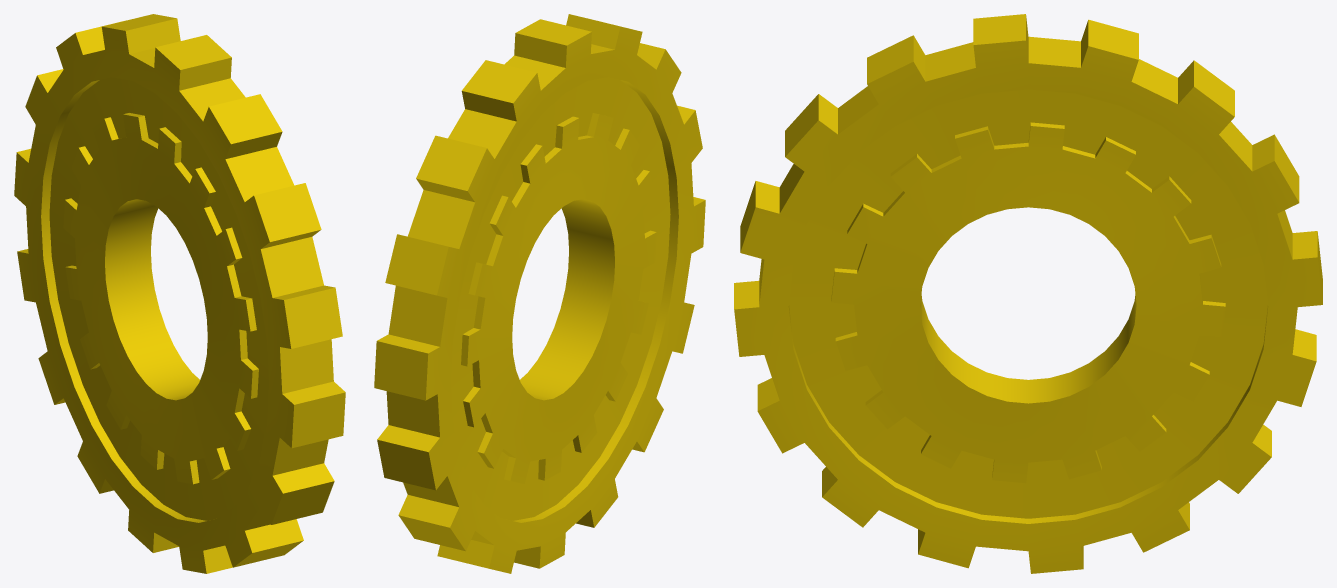
Rendered from rouage gold.fbx.
3 views of the same model, side by side, from view 1: azimuth 30°, elevation 25°; view 2: azimuth 150°, elevation 25°; view 3: azimuth 270°, elevation 25° (orthographic). The views are drawn at different scales.
Visible parts, largest first — view 1: Cylinder.008; view 2: Cylinder.008; view 3: Cylinder.008.
Boxes of the visible parts, bbox=[...] form: Cylinder.008: bbox=[14, 14, 345, 573]; Cylinder.008: bbox=[374, 14, 705, 573]; Cylinder.008: bbox=[734, 14, 1322, 573].
Size of the model in its own units: 34.24 by 322 by 322.
